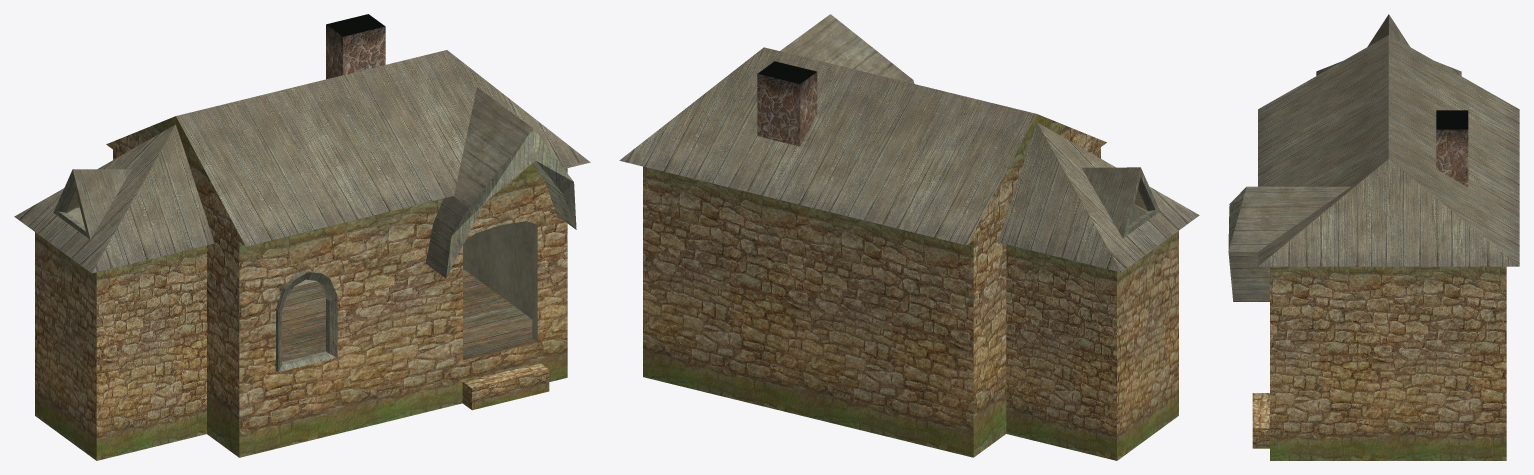
The model's file is House7.glb.
The picture shows the model from 3 angles, left to right: view 1: azimuth 30°, elevation 25°; view 2: azimuth 150°, elevation 25°; view 3: azimuth 270°, elevation 25°; orthographic projection. The views are drawn at different scales.
Parts seen in each view (by area): view 1: House7-col; view 2: House7-col; view 3: House7-col.
Boxes of the visible parts, x1=… form: House7-col: x1=14, y1=14, x2=590, y2=460; House7-col: x1=619, y1=14, x2=1199, y2=460; House7-col: x1=1228, y1=14, x2=1519, y2=460.
Size of the model in its own units: 8.72 by 5.5 by 5.02.
Materials: 8 (8 with a texture image).
